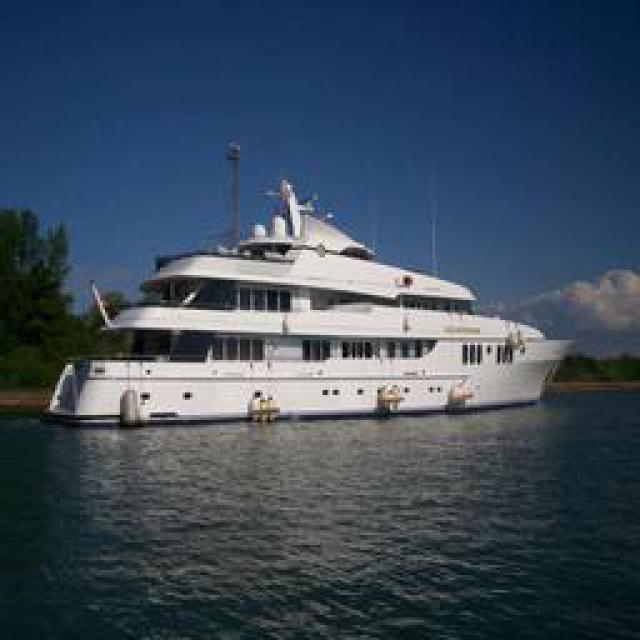Ship: (48, 169, 586, 429)
